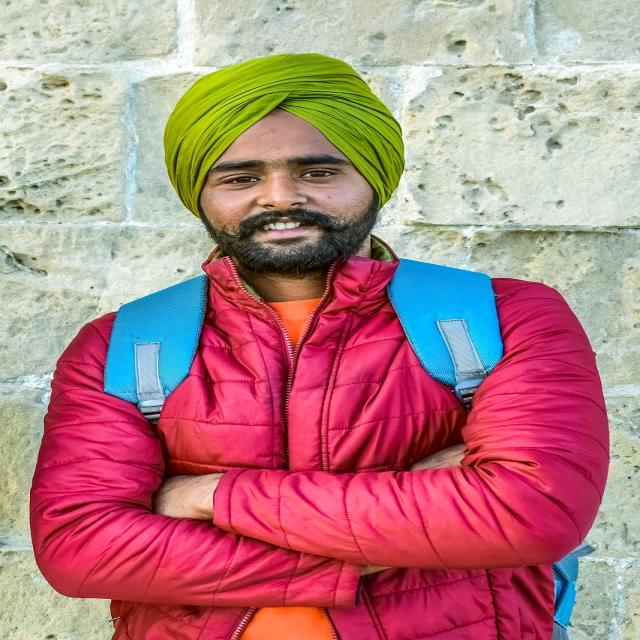no_hard_hat: (164, 54, 404, 218)
person: (32, 54, 608, 640)
